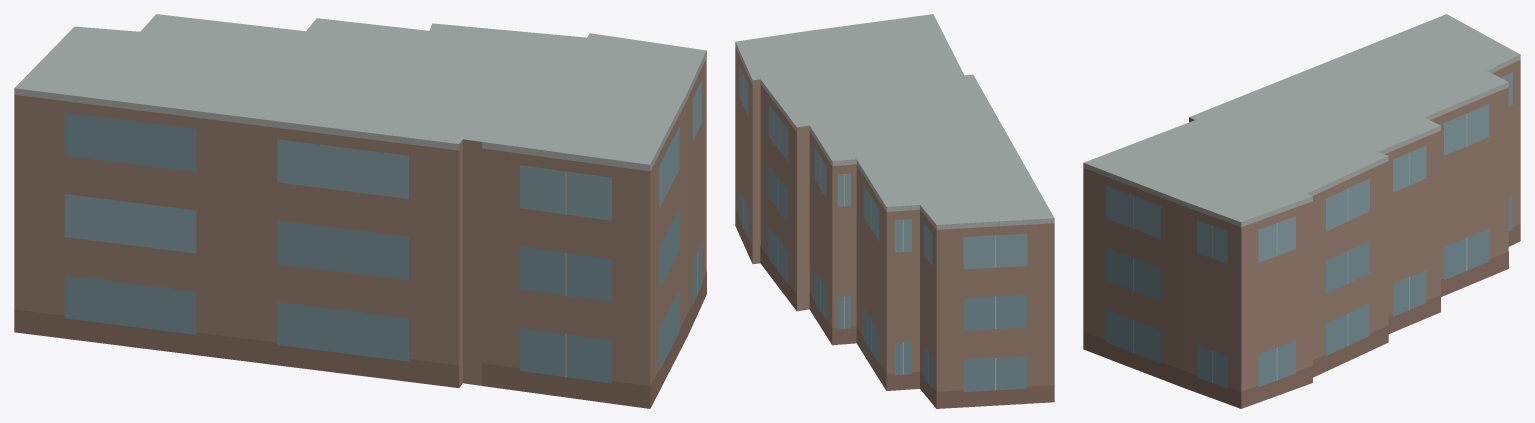
Rendered from survey-upis-32586902.glb.
3 renders of one model, left to right at view 1: azimuth 30°, elevation 25°; view 2: azimuth 150°, elevation 25°; view 3: azimuth 270°, elevation 25°, orthographic. The views are drawn at different scales.
Parts seen in each view (by area): view 1: survey-upis-32586902.tmp; view 2: survey-upis-32586902.tmp; view 3: survey-upis-32586902.tmp.
Part boxes in pixels (box(x1,y1,x2,y2)): survey-upis-32586902.tmp: box(14, 14, 706, 408); survey-upis-32586902.tmp: box(735, 14, 1054, 408); survey-upis-32586902.tmp: box(1083, 14, 1520, 408).
Bounding box in the file's own units: 21.91 × 9.15 × 19.43.
